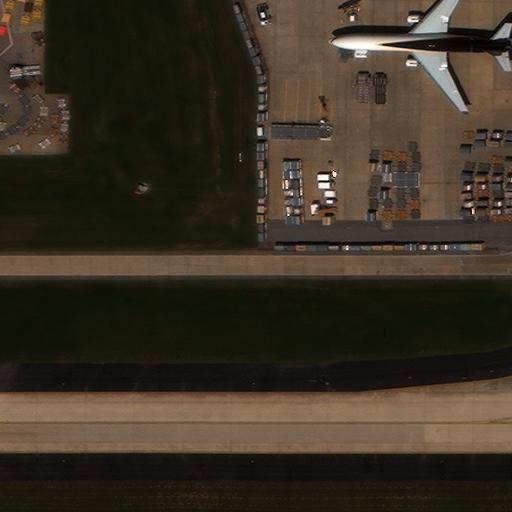Large Civil Transport: (328, 0, 511, 114)
